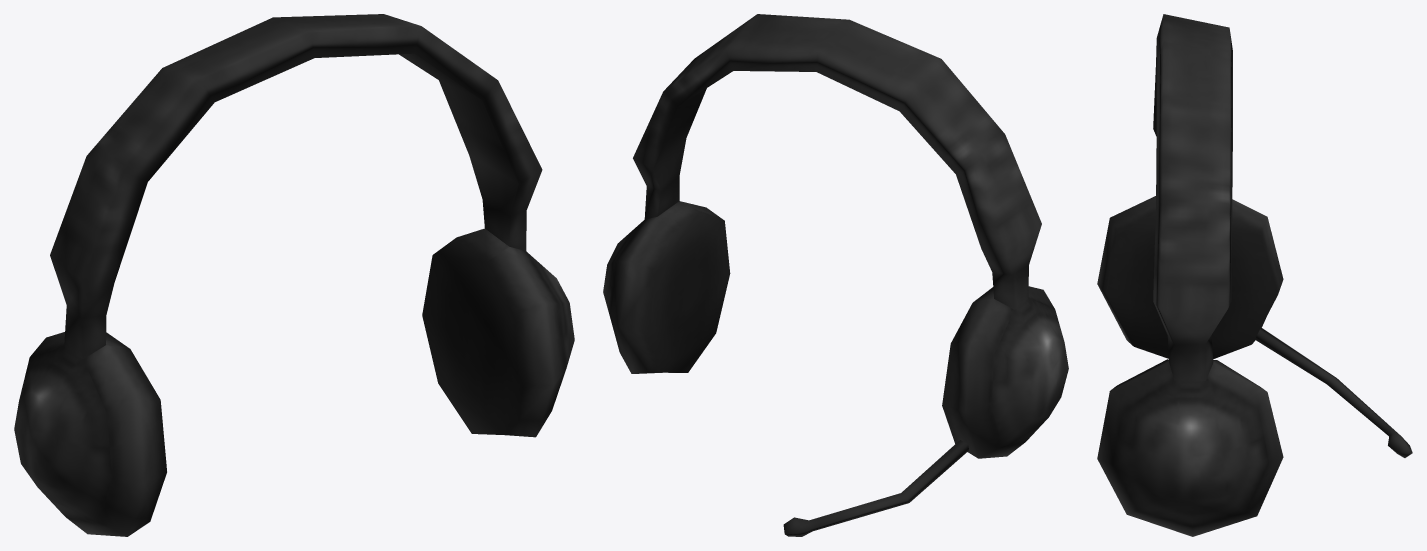
The model's file is headphone3.glb.
The picture shows the model from 3 angles, left to right: view 1: azimuth 30°, elevation 25°; view 2: azimuth 150°, elevation 25°; view 3: azimuth 270°, elevation 25°; orthographic projection. The views are drawn at different scales.
Parts seen in each view (by area): view 1: headphone3; view 2: headphone3; view 3: headphone3.
Boxes of the visible parts, x1,y1,x2,y2 form: headphone3: [14, 14, 574, 536]; headphone3: [603, 14, 1068, 536]; headphone3: [1097, 14, 1412, 536].
Size of the model in its own units: 0.3019 by 0.2771 by 0.1789.
1 material, 1 textured.
